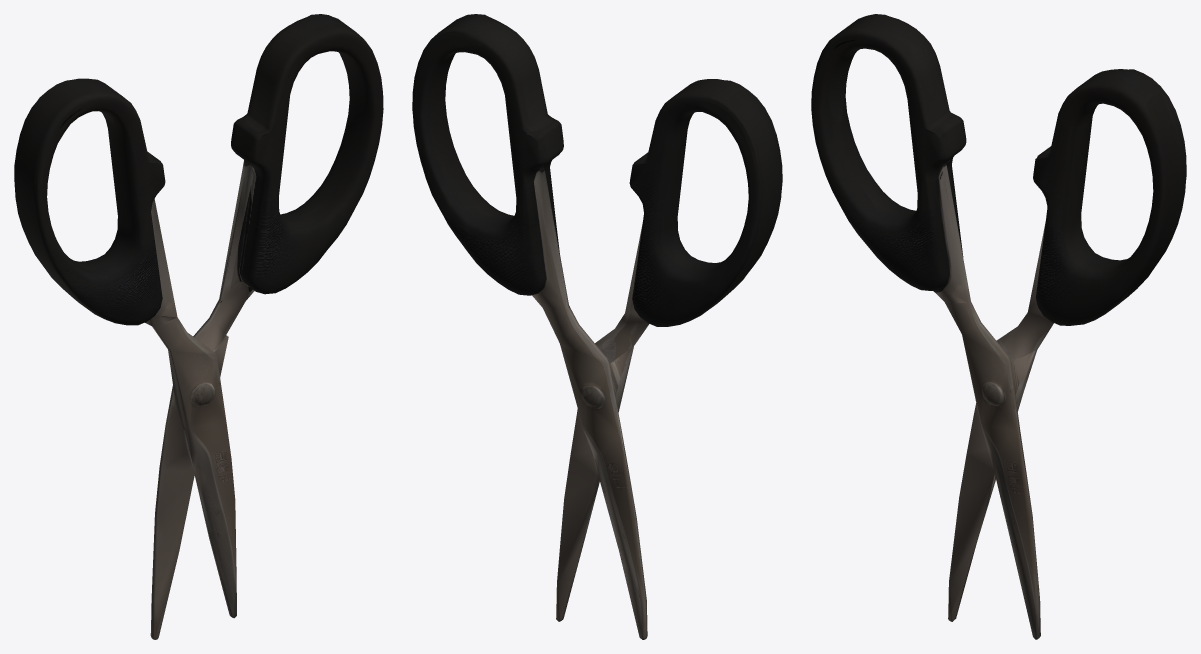
The model's file is scissors.glb.
3 renders of one model, left to right at view 1: azimuth 30°, elevation 25°; view 2: azimuth 150°, elevation 25°; view 3: azimuth 330°, elevation 25°, orthographic.
Visible parts, largest first — view 1: mesh_rep_0_ori_repair_quad; view 2: mesh_rep_0_ori_repair_quad; view 3: mesh_rep_0_ori_repair_quad.
Part boxes in pixels (bbox=[...]): mesh_rep_0_ori_repair_quad: bbox=[14, 14, 383, 639]; mesh_rep_0_ori_repair_quad: bbox=[412, 14, 782, 639]; mesh_rep_0_ori_repair_quad: bbox=[811, 14, 1186, 639].
Bounding box in the file's own units: 0.0842 × 0.1332 × 0.0109.
Materials: 1 (1 with a texture image).
